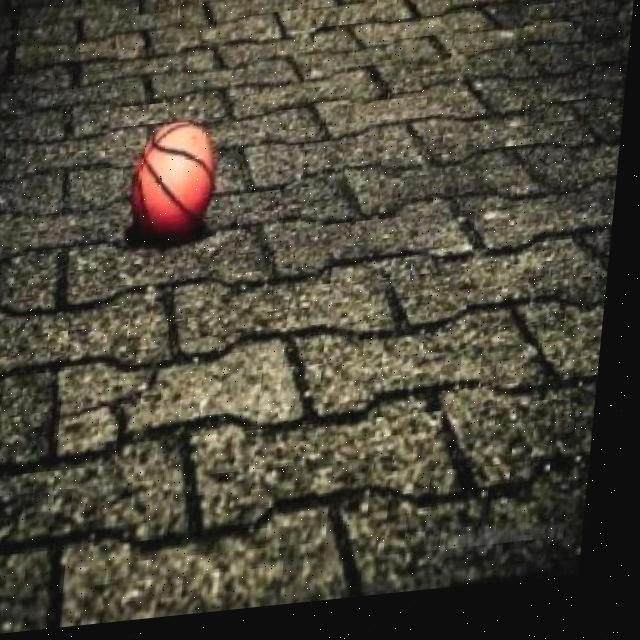Basketball: (124, 116, 221, 246)
